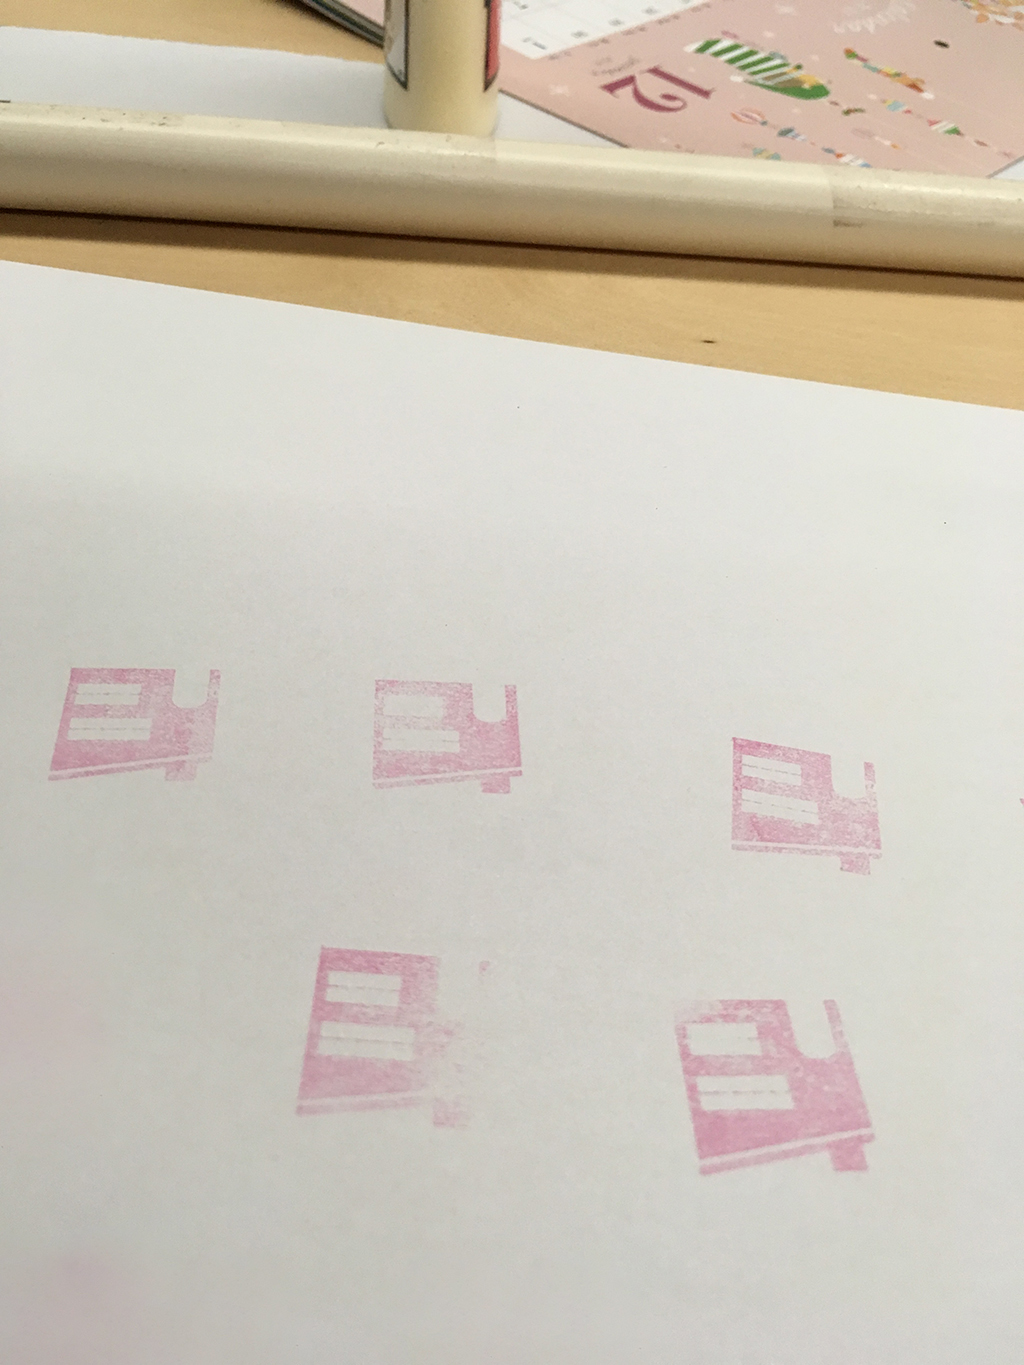house: (643, 970, 897, 1196), (278, 925, 516, 1138), (41, 640, 240, 792), (359, 651, 544, 808), (721, 731, 895, 886)
